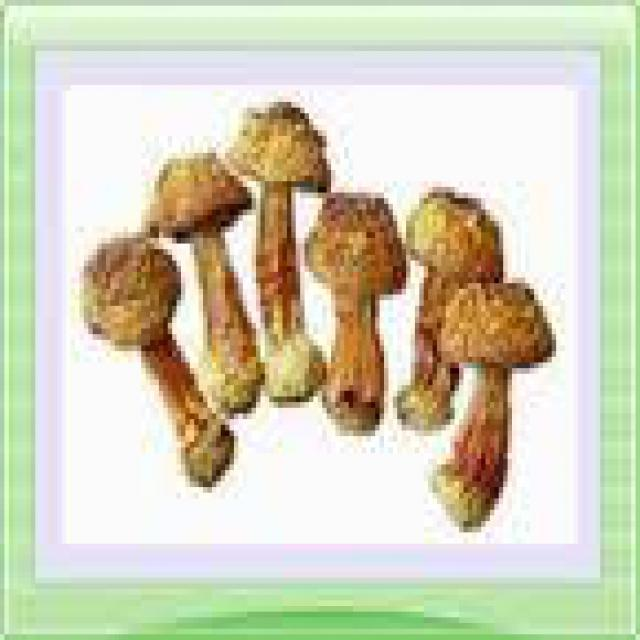Agaricus blazei Murill: (80, 94, 554, 553)
